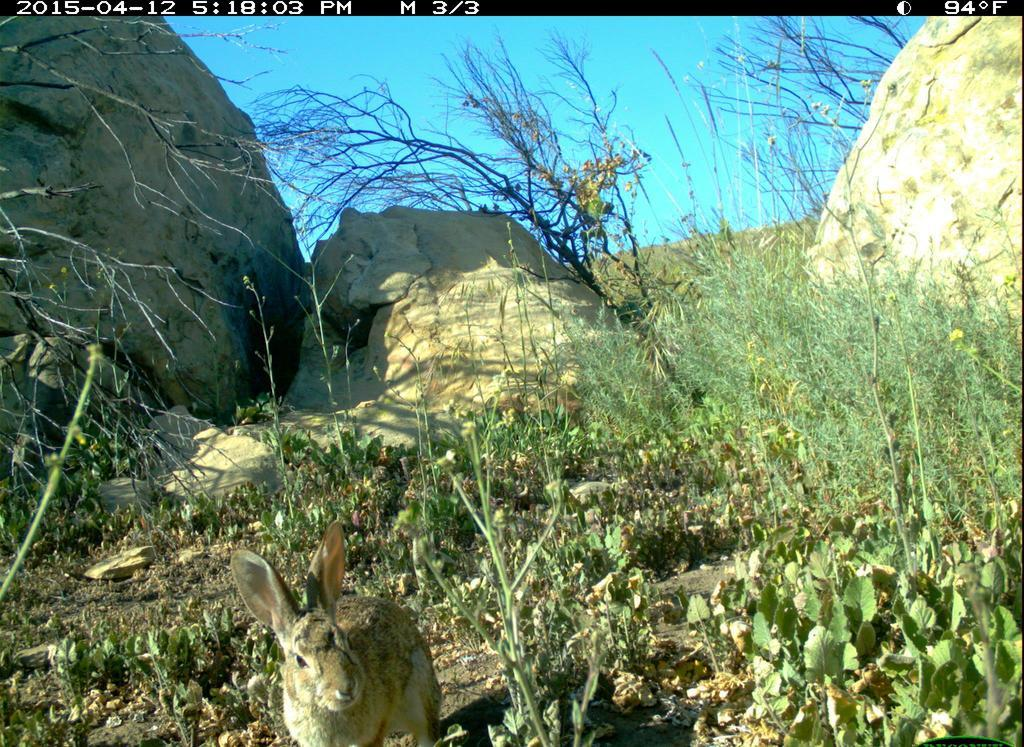rabbit: (219, 521, 470, 747)
